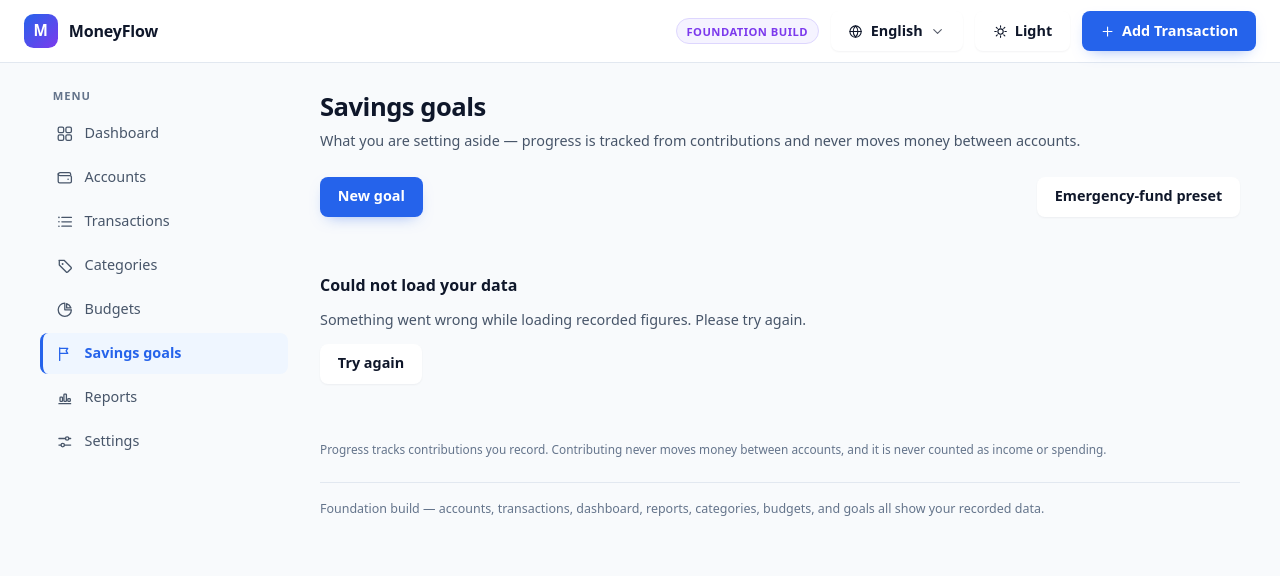
it: goals route (wired to the IT-10 goal endpoints) › offers a retry after a failure and renders the loaded goals
The width and height of the screenshot is (1280, 576).
Expected: the text "Could not load your data" is shown, [320,272,517,297]
Step 1. Click the button "Try again" → [371, 364], box [320,344,422,384]
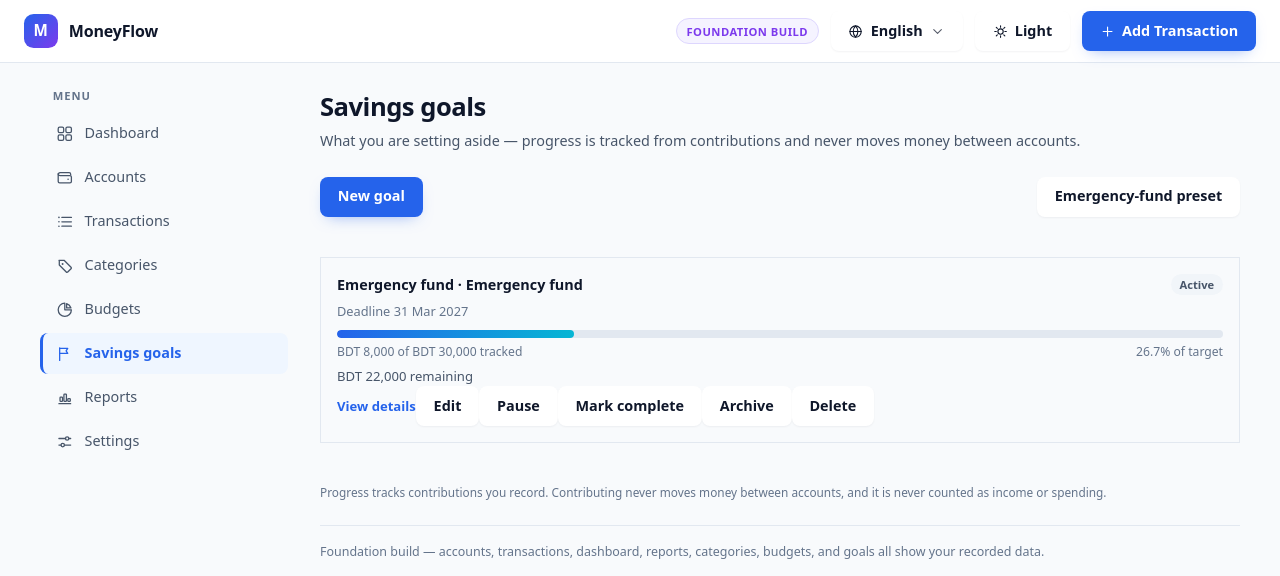
Now the text "BDT 8,000 of BDT 30,000 tracked" is shown, box [337,343,522,362]
